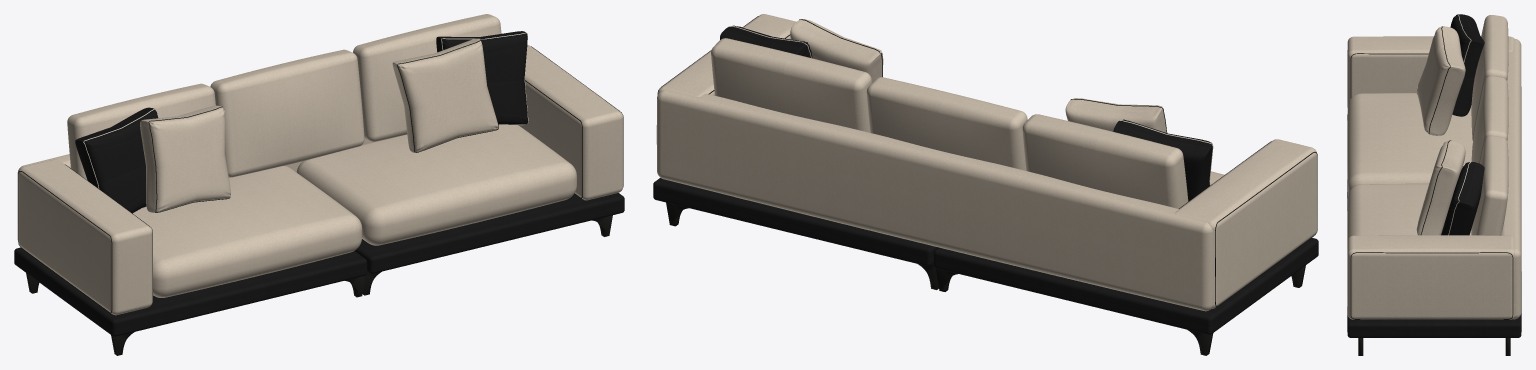
The model's file is straight.glb.
The picture shows the model from 3 angles, left to right: view 1: azimuth 30°, elevation 25°; view 2: azimuth 150°, elevation 25°; view 3: azimuth 270°, elevation 25°; orthographic projection. The views are drawn at different scales.
Visible parts, largest first — view 1: fabric, trim (×2), pillows, accent (×2), legs; view 2: fabric, trim (×2), pillows, accent, legs; view 3: fabric, pillows, accent (×3), trim (×2), legs.
Part boxes in pixels (box(x1,y1,x2,y2)): fabric: box(17, 14, 623, 315); trim (×2): box(14, 46, 624, 336); pillows: box(140, 38, 498, 212); accent (×2): box(75, 31, 528, 213); legs: box(26, 215, 612, 355); fabric: box(656, 14, 1317, 311); trim (×2): box(653, 16, 1318, 334); pillows: box(790, 19, 1166, 132); accent: box(720, 25, 1212, 201); legs: box(666, 202, 1305, 355); fabric: box(1347, 15, 1521, 319); pillows: box(1416, 26, 1465, 235); accent (×3): box(1420, 14, 1484, 235); trim (×2): box(1347, 53, 1521, 337); legs: box(1358, 338, 1510, 355).
Size of the model in its own units: 3 by 1 by 1.02.
5 materials, 2 textured.
